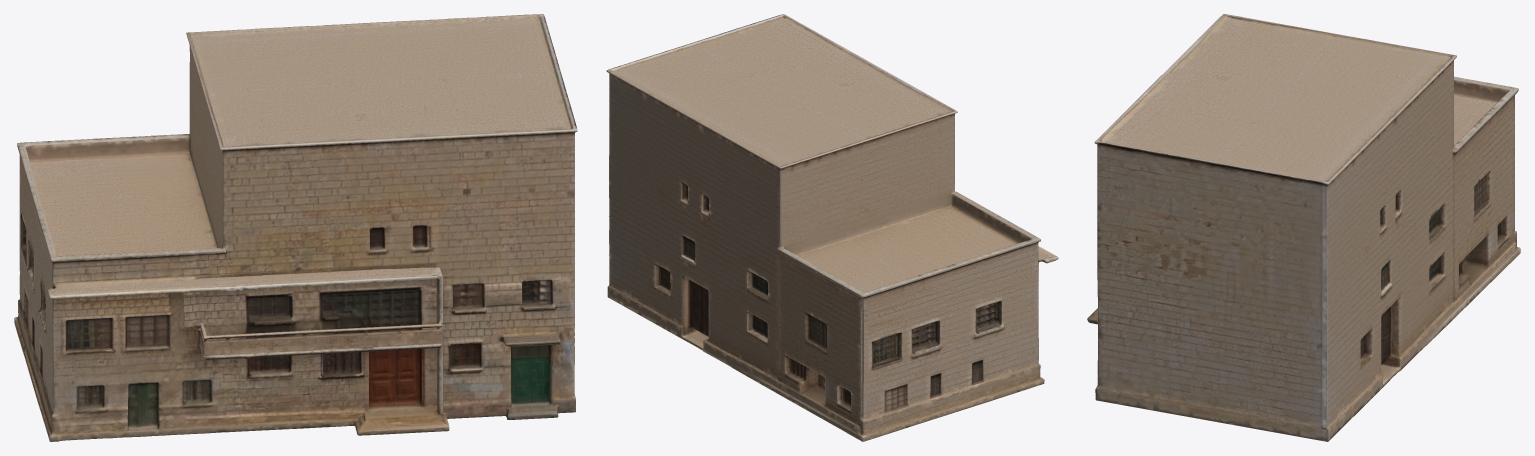
The model's file is sindicatosigloxxplaza.glb.
3 renders of one model, left to right at view 1: azimuth 30°, elevation 25°; view 2: azimuth 150°, elevation 25°; view 3: azimuth 270°, elevation 25°, orthographic. The views are drawn at different scales.
Visible parts, largest first — view 1: mesh_node; view 2: mesh_node; view 3: mesh_node.
Boxes of the visible parts, box(x1,y1,x2,y2) form: mesh_node: box(14, 14, 577, 441); mesh_node: box(606, 14, 1058, 441); mesh_node: box(1087, 14, 1520, 441).
Size of the model in its own units: 1 by 0.5131 by 0.7744.
Materials: 1 (1 with a texture image).
